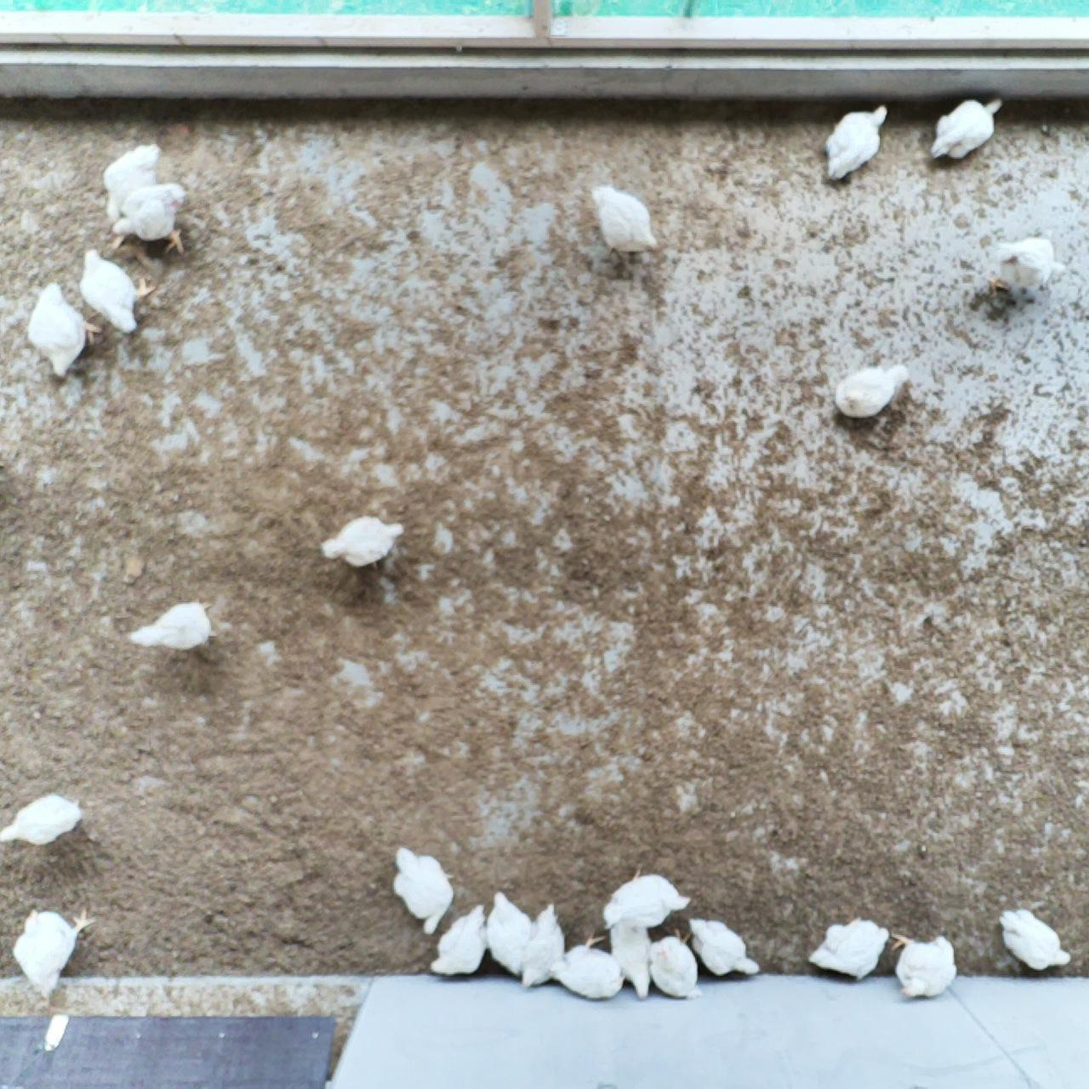chicken: (10, 901, 98, 1000), (74, 241, 160, 341), (24, 278, 102, 382), (387, 841, 459, 938), (109, 176, 191, 260), (595, 861, 692, 932), (585, 181, 668, 263), (542, 925, 630, 1002), (802, 912, 892, 987), (978, 234, 1070, 305), (124, 594, 221, 658), (823, 101, 890, 188), (993, 905, 1075, 976), (927, 97, 1011, 166), (681, 914, 762, 984), (426, 900, 493, 982), (103, 140, 164, 230), (319, 513, 408, 574), (0, 789, 87, 851), (888, 928, 960, 1002), (828, 357, 911, 421), (517, 899, 573, 990), (643, 925, 705, 1006), (603, 923, 664, 1005), (483, 888, 536, 979)
